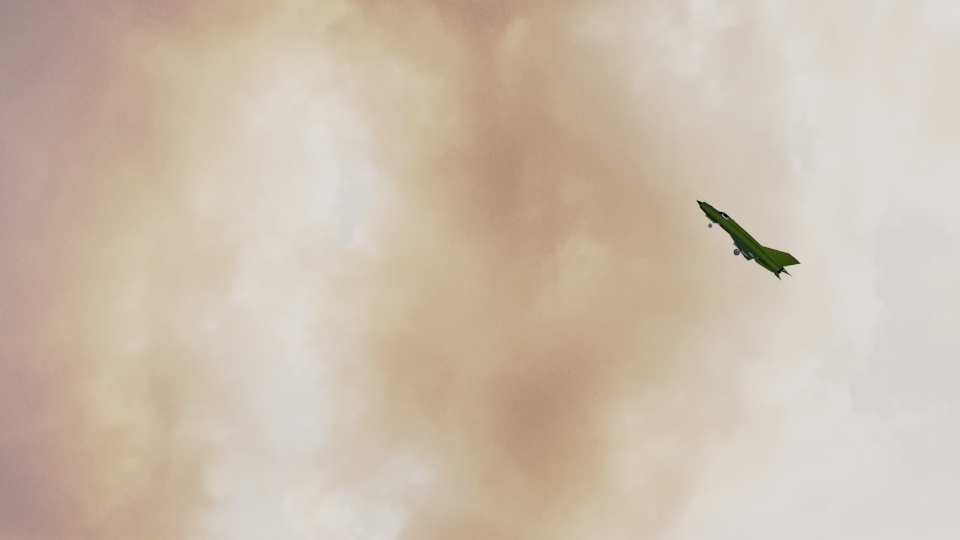plane: (695, 198, 800, 280)
